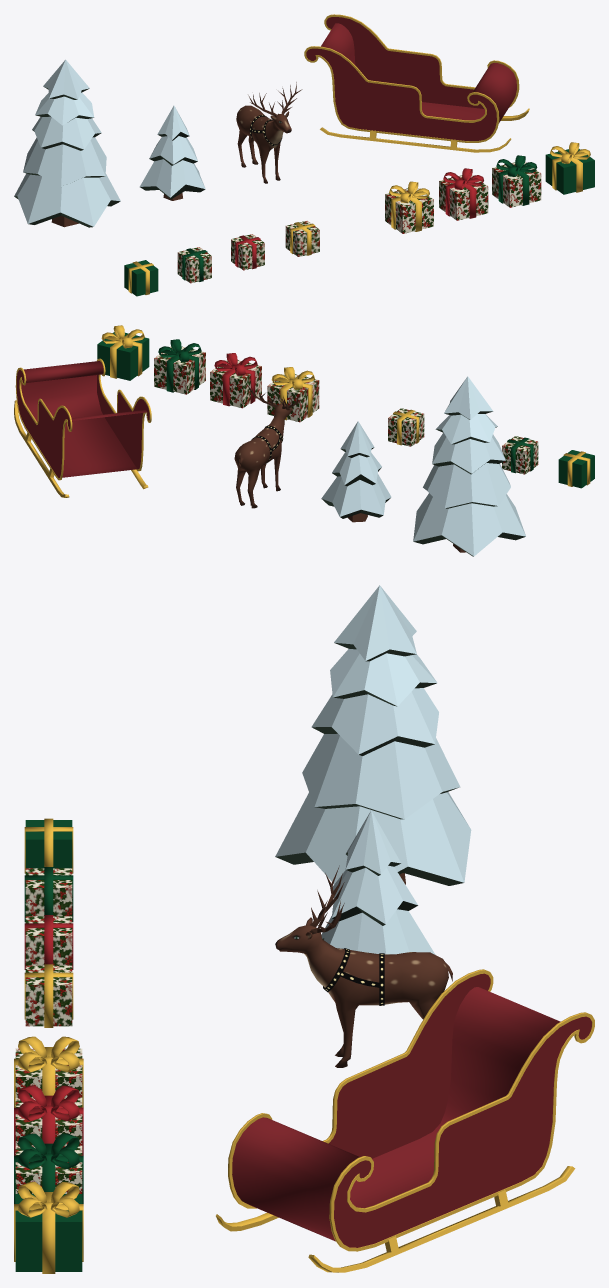
Rendered from sleighAssetDisplay.glb.
The picture shows the model from 3 angles, top to bottom: view 1: azimuth 30°, elevation 25°; view 2: azimuth 150°, elevation 25°; view 3: azimuth 270°, elevation 25°; orthographic projection. The views are drawn at different scales.
Visible parts, largest first — view 1: PlainSleigh.001, TreeBigWhite, TreeSmallWhite, Reindeer, GiftBigWhite2, GiftBigWhite1, GiftBigGreen, GiftBigWhite3, GiftSmallWhite1, GiftSmallGreen, GiftSmallWhite3, GiftSmallWhite2; view 2: PlainSleigh.001, TreeBigWhite, TreeSmallWhite, Reindeer, GiftBigWhite1, GiftBigWhite2, GiftBigGreen, GiftBigWhite3, GiftSmallGreen, GiftSmallWhite3, GiftSmallWhite1; view 3: PlainSleigh.001, TreeBigWhite, Reindeer, TreeSmallWhite, GiftBigGreen, GiftBigWhite3, GiftBigWhite1, GiftBigWhite2, GiftSmallWhite3, GiftSmallWhite2, GiftSmallGreen, GiftSmallWhite1.
Boxes of the visible parts, x1=… form: PlainSleigh.001: x1=304, y1=14, x2=529, y2=152; TreeBigWhite: x1=14, y1=59, x2=120, y2=227; TreeSmallWhite: x1=139, y1=105, x2=205, y2=200; Reindeer: x1=236, y1=82, x2=302, y2=183; GiftBigWhite2: x1=439, y1=168, x2=488, y2=220; GiftBigWhite1: x1=492, y1=155, x2=541, y2=207; GiftBigGreen: x1=545, y1=142, x2=594, y2=194; GiftBigWhite3: x1=385, y1=181, x2=433, y2=233; GiftSmallWhite1: x1=177, y1=247, x2=211, y2=283; GiftSmallGreen: x1=124, y1=260, x2=158, y2=296; GiftSmallWhite3: x1=285, y1=220, x2=319, y2=256; GiftSmallWhite2: x1=231, y1=234, x2=264, y2=270; PlainSleigh.001: x1=14, y1=358, x2=151, y2=497; TreeBigWhite: x1=413, y1=376, x2=525, y2=556; TreeSmallWhite: x1=321, y1=421, x2=391, y2=522; Reindeer: x1=234, y1=383, x2=303, y2=508; GiftBigWhite1: x1=154, y1=339, x2=205, y2=394; GiftBigWhite2: x1=210, y1=353, x2=261, y2=408; GiftBigGreen: x1=97, y1=325, x2=149, y2=380; GiftBigWhite3: x1=267, y1=367, x2=319, y2=422; GiftSmallGreen: x1=558, y1=450, x2=594, y2=488; GiftSmallWhite3: x1=388, y1=408, x2=424, y2=446; GiftSmallWhite1: x1=502, y1=436, x2=538, y2=474; PlainSleigh.001: x1=216, y1=969, x2=594, y2=1272; TreeBigWhite: x1=275, y1=585, x2=471, y2=885; Reindeer: x1=275, y1=865, x2=452, y2=1067; TreeSmallWhite: x1=321, y1=810, x2=435, y2=954; GiftBigGreen: x1=14, y1=1182, x2=83, y2=1273; GiftBigWhite3: x1=14, y1=1036, x2=83, y2=1107; GiftBigWhite1: x1=14, y1=1133, x2=83, y2=1203; GiftBigWhite2: x1=14, y1=1085, x2=83, y2=1155; GiftSmallWhite3: x1=24, y1=964, x2=73, y2=1027; GiftSmallWhite2: x1=24, y1=915, x2=73, y2=969; GiftSmallGreen: x1=24, y1=818, x2=73, y2=873; GiftSmallWhite1: x1=24, y1=867, x2=73, y2=922.
Size of what is drawn, in the model's own units: 13.81 by 4.33 by 7.62.
Materials: 5 (5 with a texture image).
